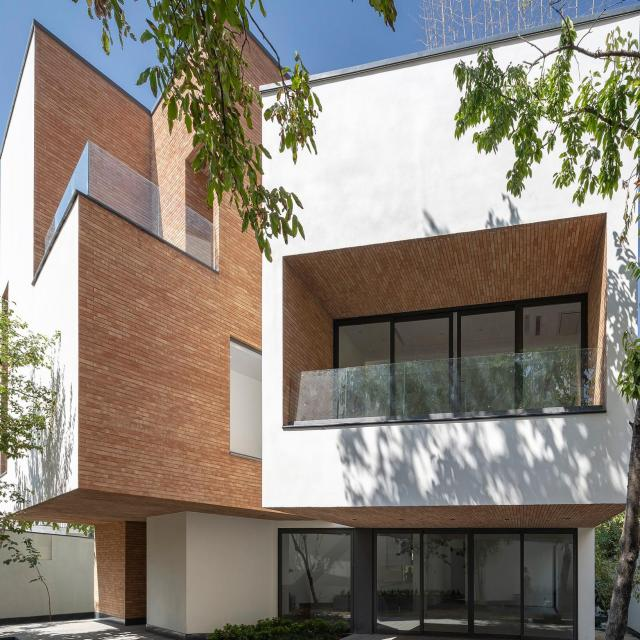door: (376, 532, 581, 637)
railing: (42, 135, 217, 274), (289, 346, 597, 423)
window: (276, 525, 582, 638), (334, 292, 589, 364)
